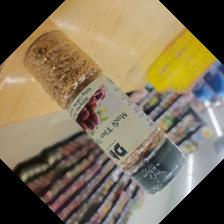TayNinh_green: (24, 29, 185, 198)
